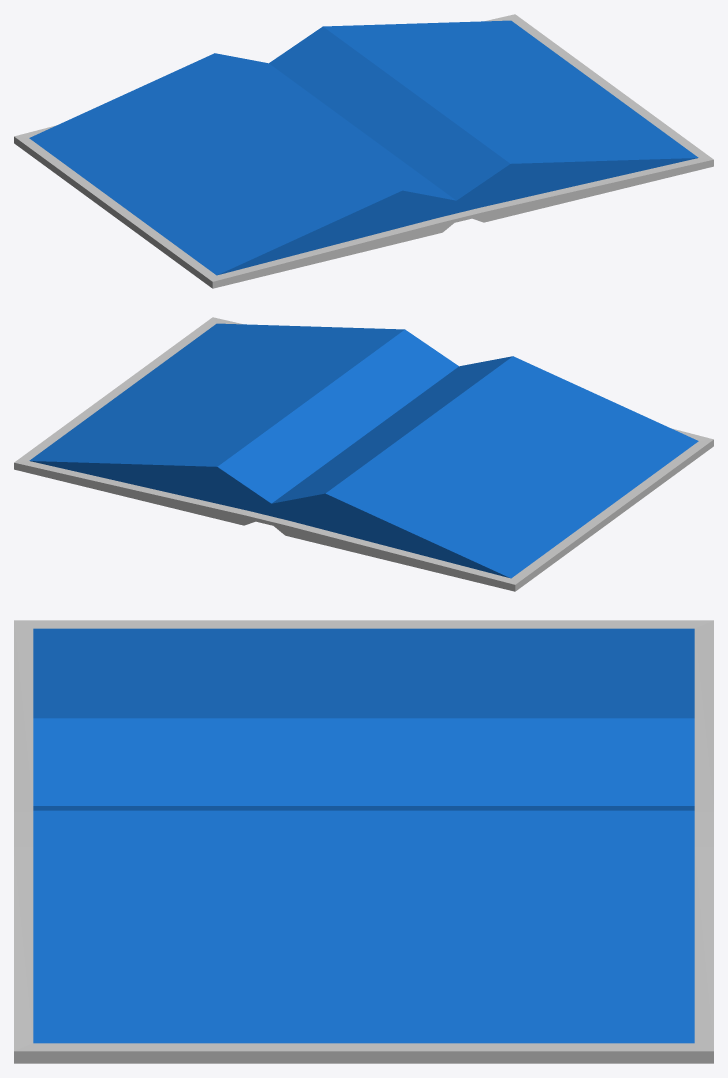
File: SM_open_book.fbx
3 views of the same model, one above another, from view 1: azimuth 30°, elevation 25°; view 2: azimuth 150°, elevation 25°; view 3: azimuth 270°, elevation 25° (orthographic). The views are drawn at different scales.
Parts seen in each view (by area): view 1: Cube_36; view 2: Cube_36; view 3: Cube_36.
Part boxes in pixels (left/top/right/bottom): Cube_36: left=14, top=14, right=713, bottom=288; Cube_36: left=14, top=317, right=713, bottom=591; Cube_36: left=14, top=620, right=713, bottom=1063.
Bounding box in the file's own units: 43.8 × 3.92 × 30.07.
